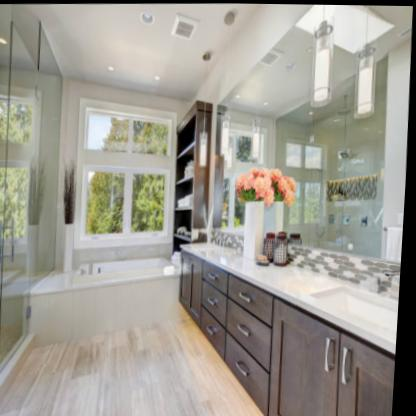Cabinet: (183, 243, 400, 416)
Window: (73, 95, 182, 246)
